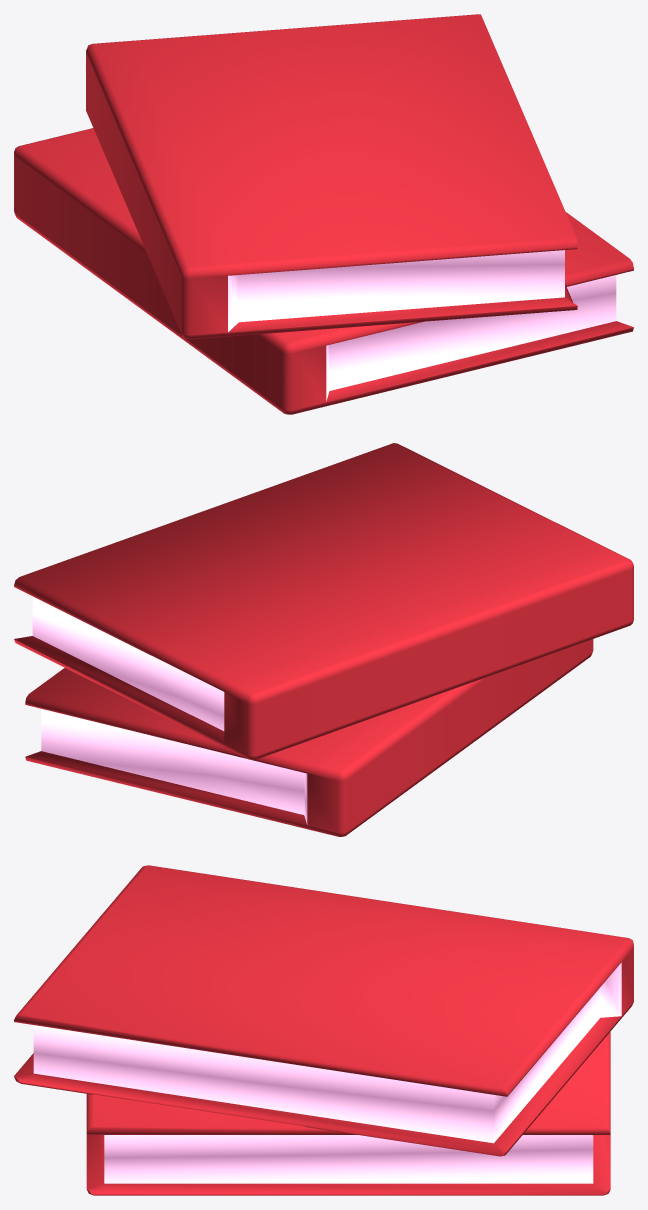
Rendered from Kitap.fbx.
3 views of the same model, one above another, from view 1: azimuth 30°, elevation 25°; view 2: azimuth 150°, elevation 25°; view 3: azimuth 270°, elevation 25° (orthographic). The views are drawn at different scales.
Visible parts, largest first — view 1: Kitap; view 2: Kitap; view 3: Kitap.
Boxes of the visible parts, x1,y1,x2,y2 form: Kitap: (14,14,633,414); Kitap: (14,443,633,836); Kitap: (14,865,633,1195).
Bounding box in the file's own units: 643 × 183 × 746.
